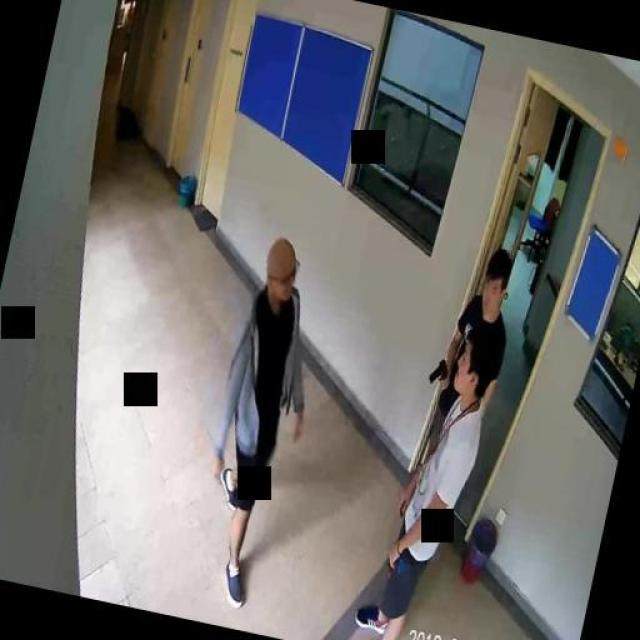gun: (424, 354, 450, 388)
